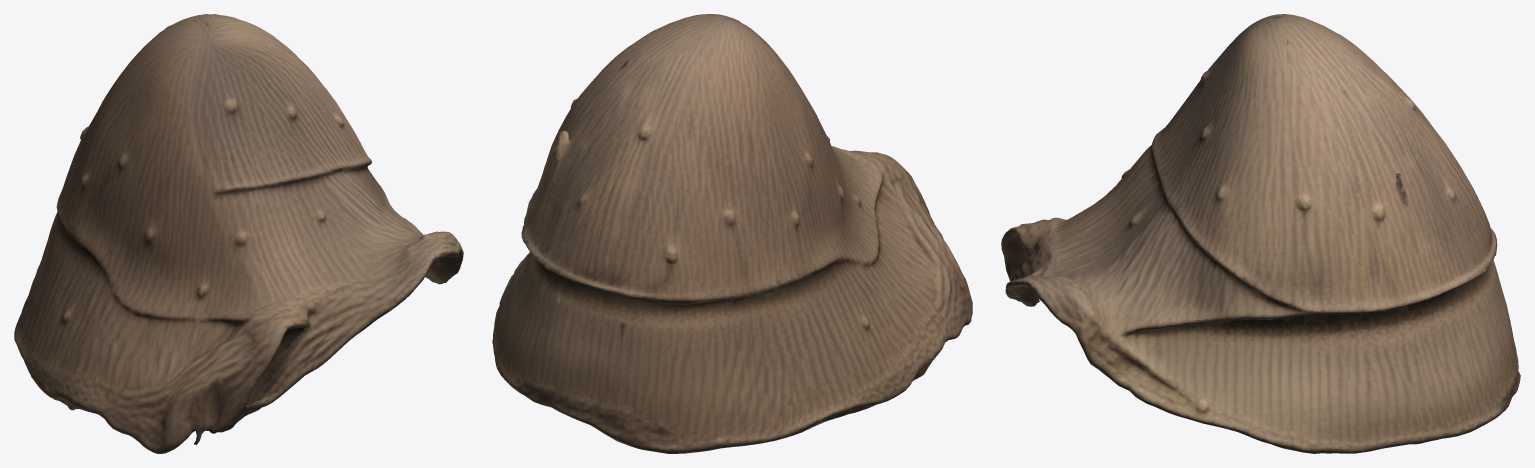
3 views of the same model, side by side, from view 1: azimuth 30°, elevation 25°; view 2: azimuth 150°, elevation 25°; view 3: azimuth 270°, elevation 25° (orthographic). The views are drawn at different scales.
Visible parts, largest first — view 1: world; view 2: world; view 3: world.
Boxes of the visible parts, left/top/right/bottom form: world: left=14, top=14, right=463, bottom=453; world: left=492, top=14, right=972, bottom=453; world: left=1001, top=14, right=1520, bottom=453.
Size of the model in its own units: 0.7651 by 0.6692 by 0.8454.
1 material, 1 textured.
